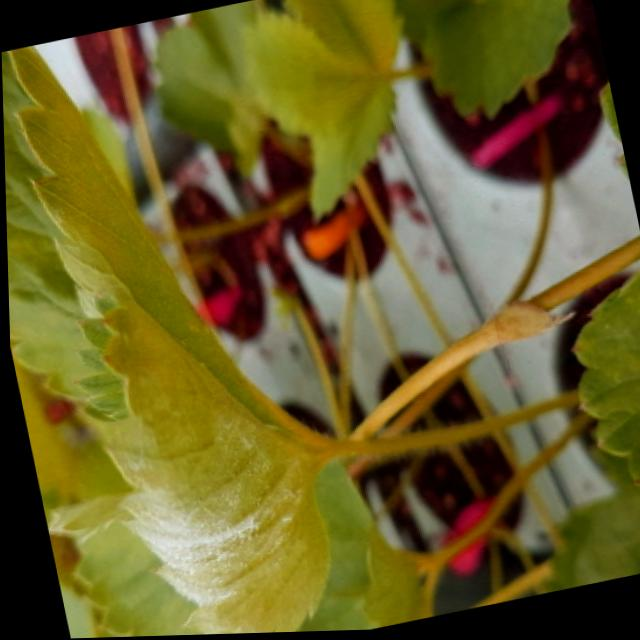Powdery Mildew Leaf: (74, 289, 328, 636)
